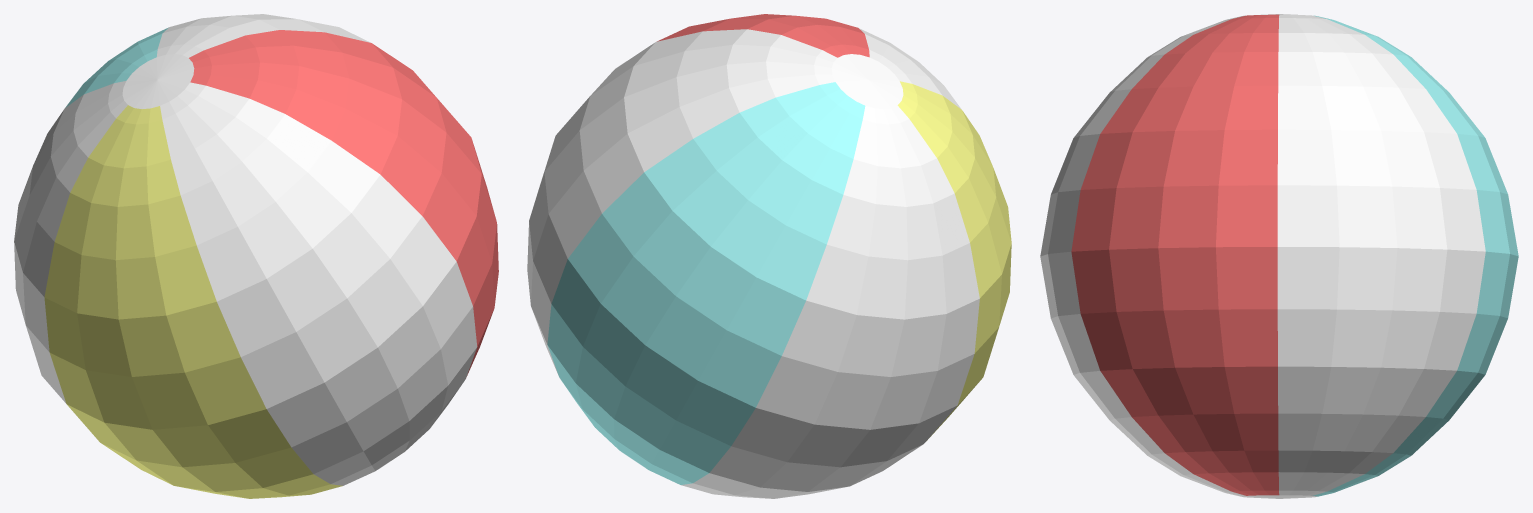
The model's file is ball.glb.
The picture shows the model from 3 angles, left to right: view 1: azimuth 30°, elevation 25°; view 2: azimuth 150°, elevation 25°; view 3: azimuth 270°, elevation 25°; orthographic projection. The views are drawn at different scales.
Parts seen in each view (by area): view 1: Object_2; view 2: Object_2; view 3: Object_2.
Boxes of the visible parts, x1,y1,x2,y2 form: Object_2: (14,14,498,498); Object_2: (527,14,1011,498); Object_2: (1040,14,1518,498).
Bounding box in the file's own units: 2.18 × 2.21 × 2.2.
Materials: 1 (1 with a texture image).
